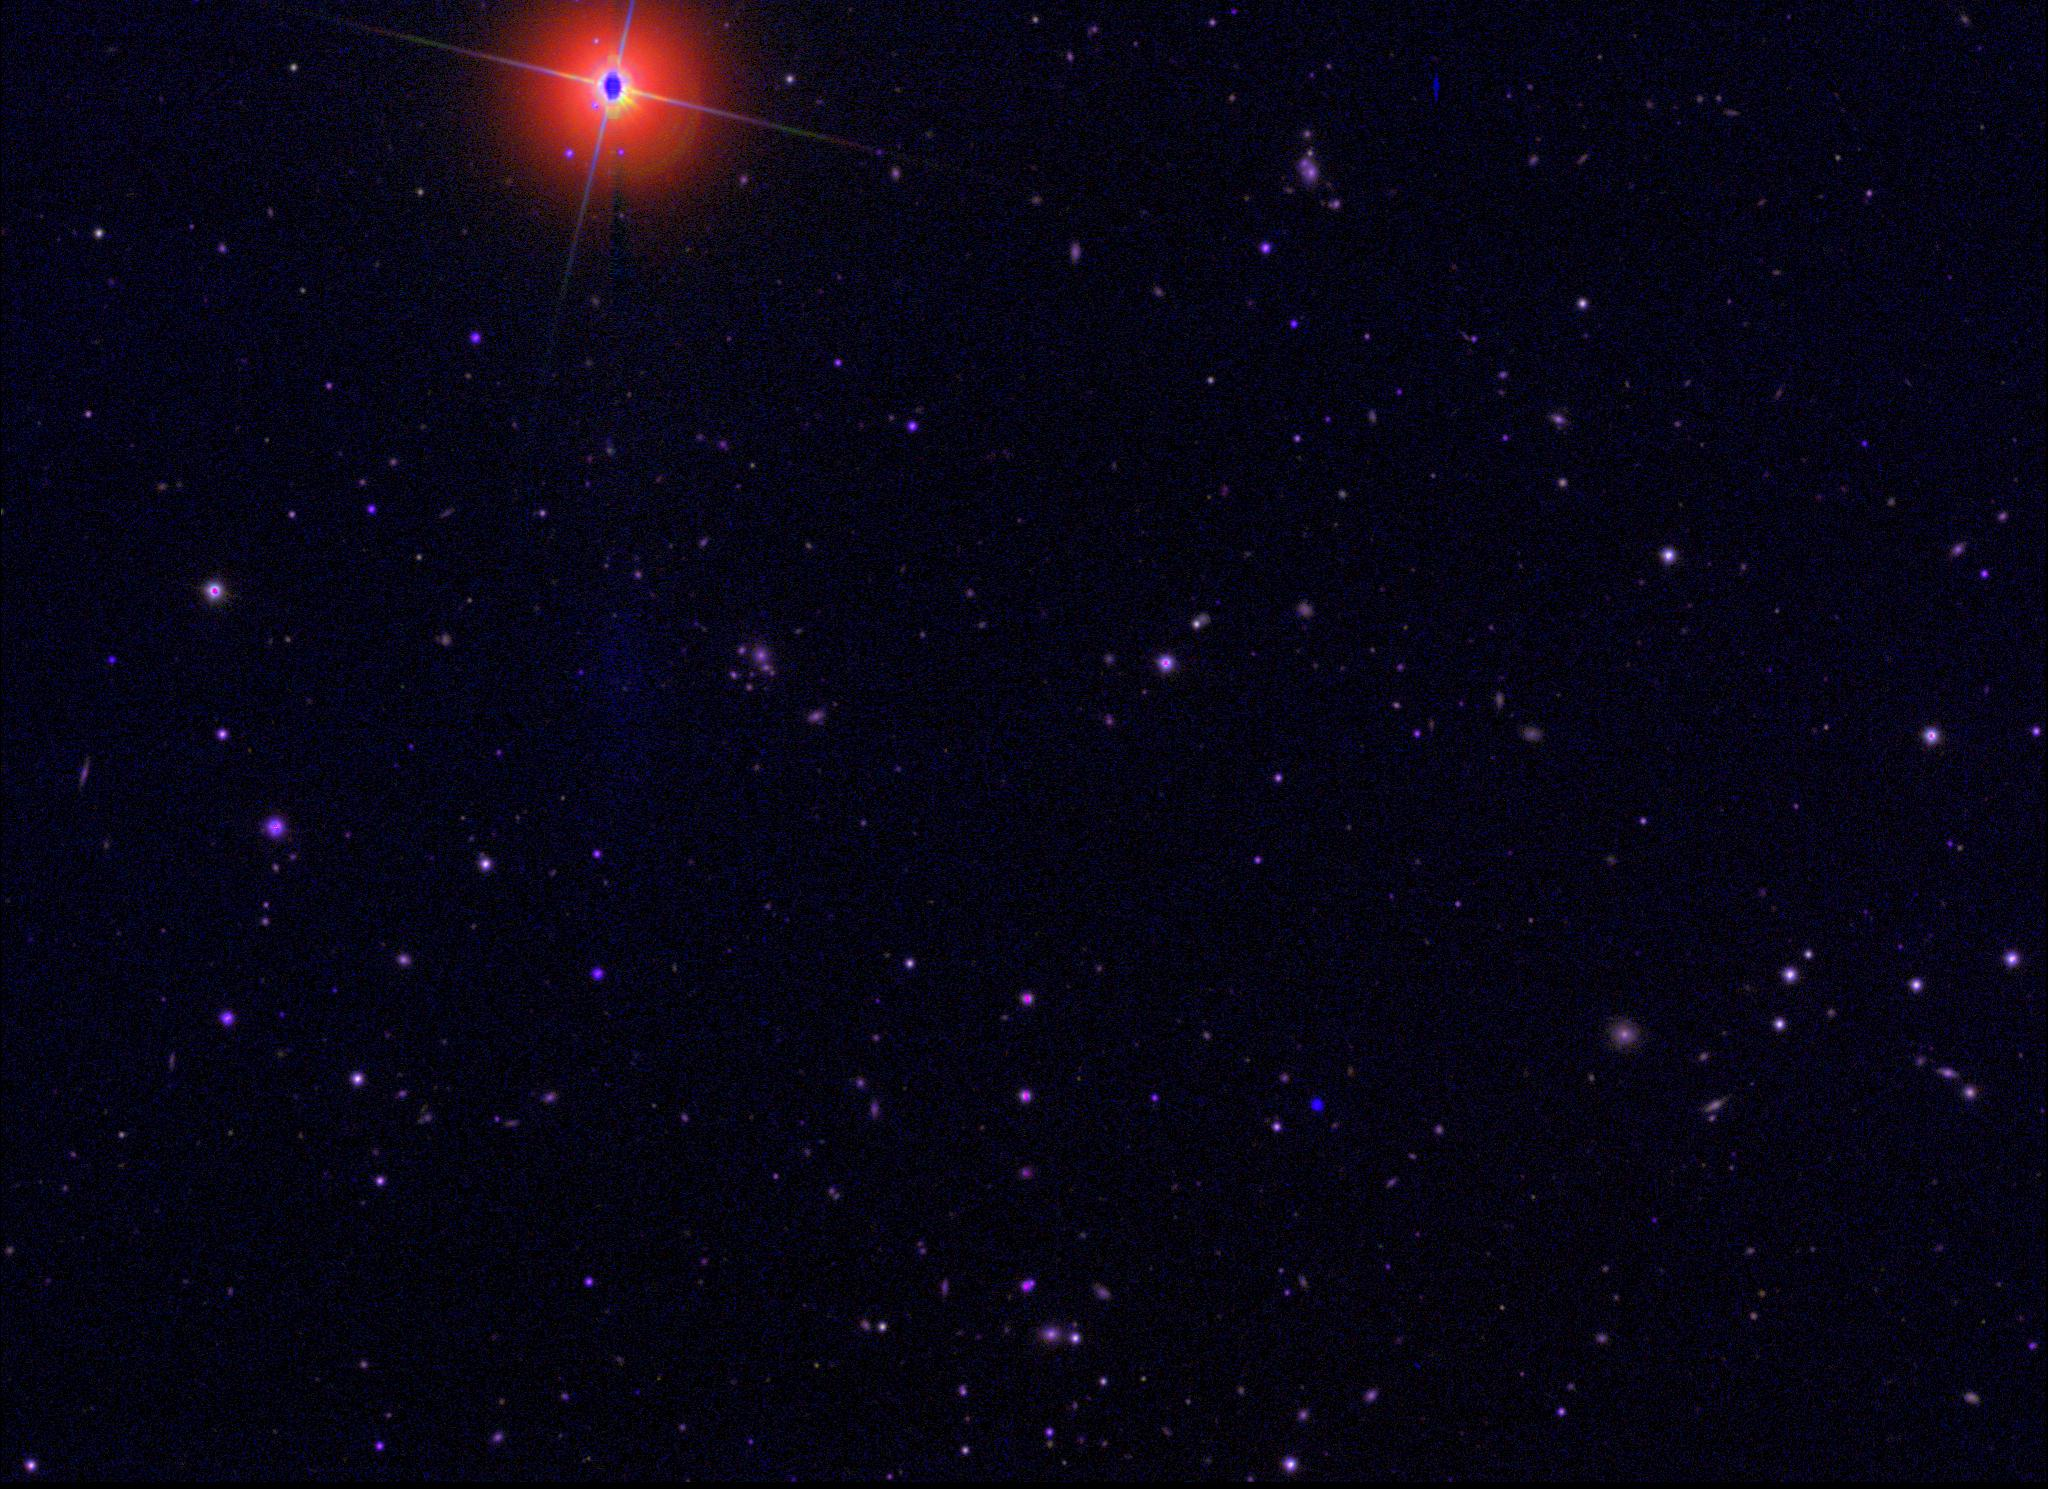L: (1310, 1098, 1325, 1112)
